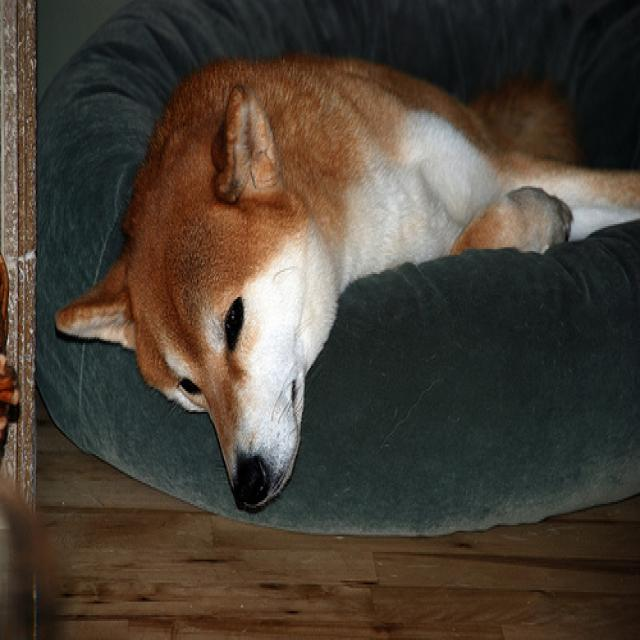dog: (53, 84, 334, 506)
